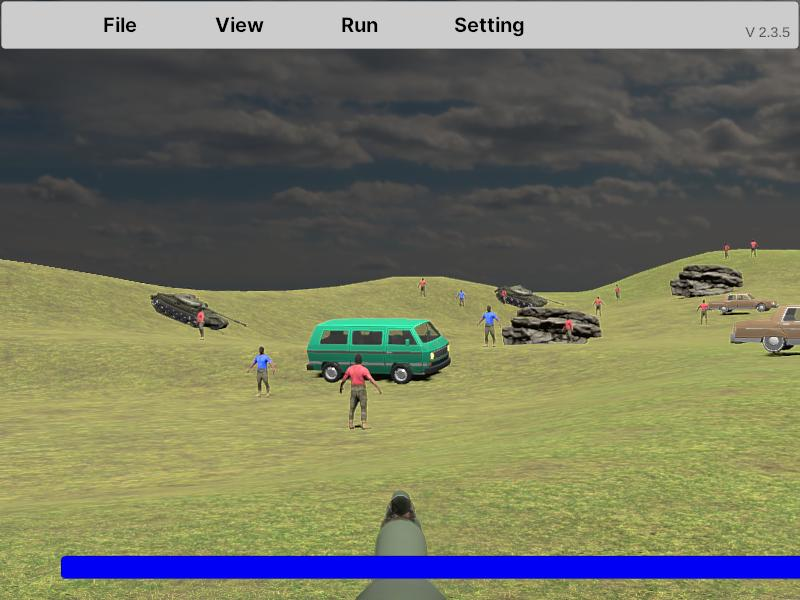Human: (340, 355, 382, 430), (248, 346, 275, 398), (477, 306, 501, 348)
Tank: (149, 290, 248, 330), (150, 290, 248, 330)
car: (306, 319, 451, 385), (730, 304, 800, 354), (709, 292, 778, 315)
